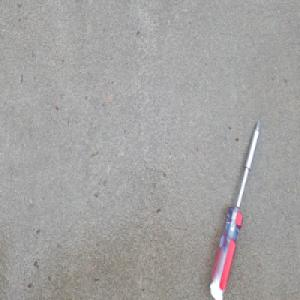Screwdriver: (209, 117, 262, 300)
